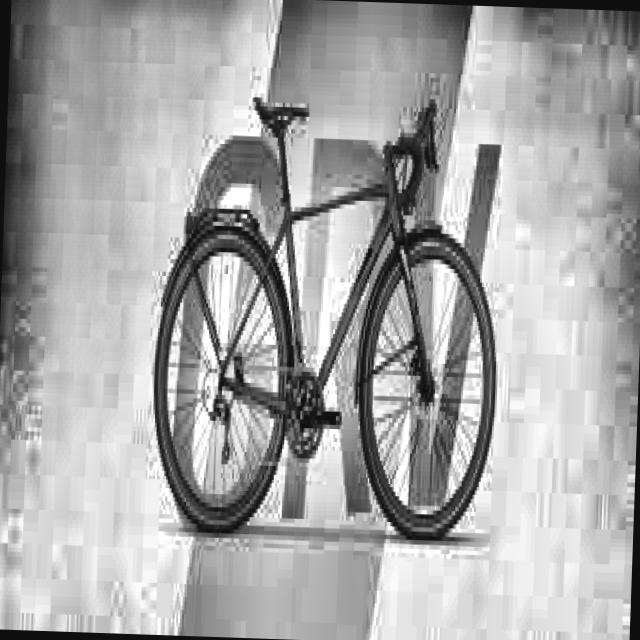bicycle: (138, 83, 516, 560)
